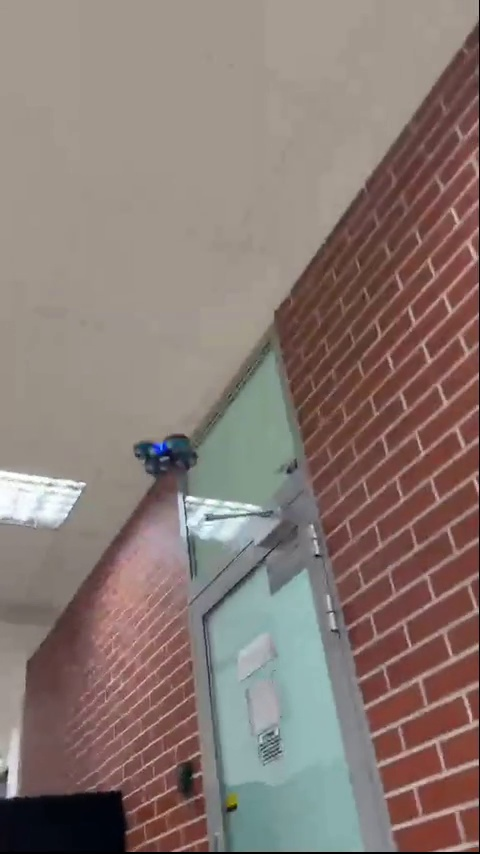drone: (134, 433, 201, 478)
